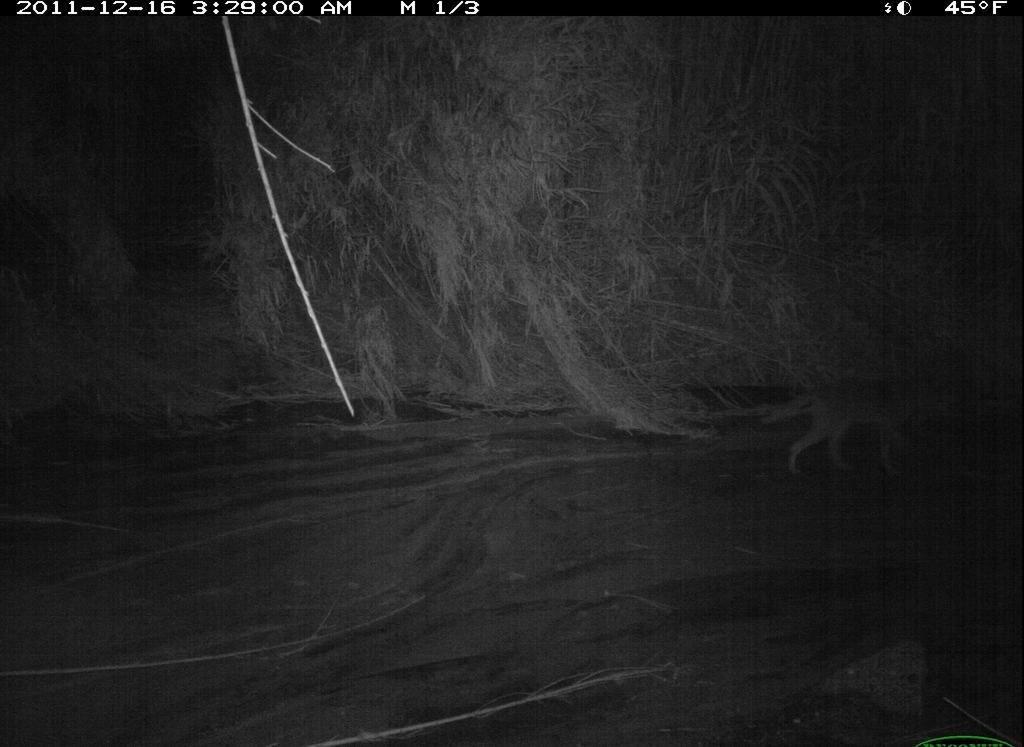coyote: (754, 369, 981, 492)
